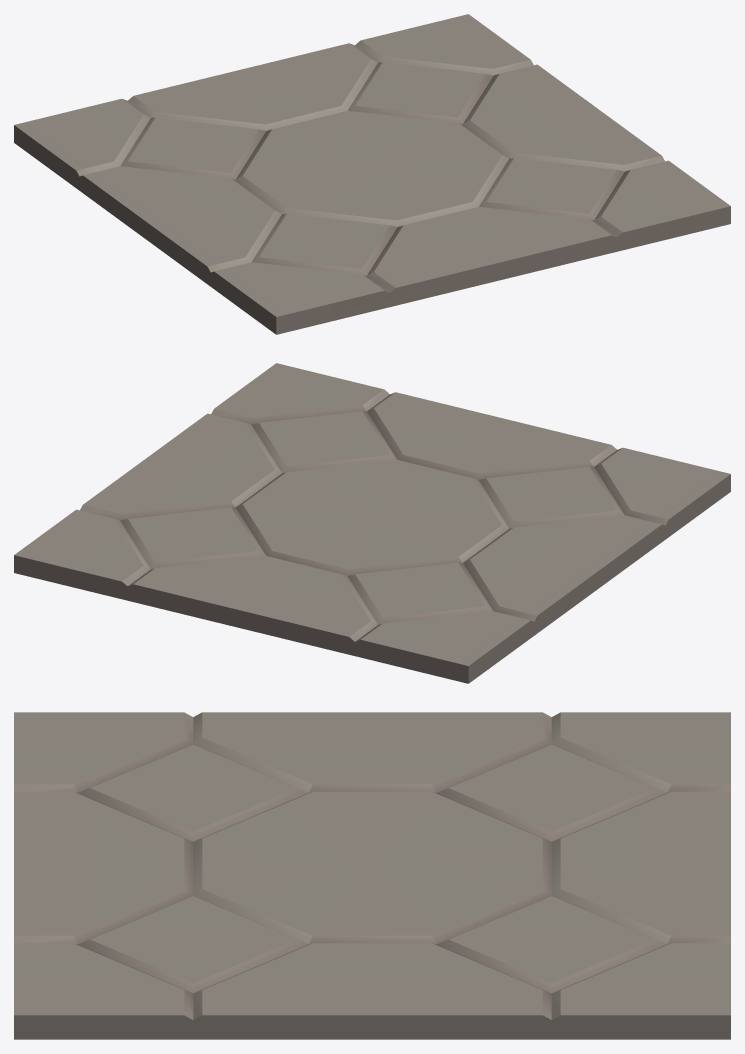
The model's file is floor.glb.
3 renders of one model, top to bottom at view 1: azimuth 30°, elevation 25°; view 2: azimuth 150°, elevation 25°; view 3: azimuth 270°, elevation 25°, orthographic. The views are drawn at different scales.
Visible parts, largest first — view 1: floor_tile_large; view 2: floor_tile_large; view 3: floor_tile_large.
Boxes of the visible parts, x1,y1,x2,y2 form: floor_tile_large: (14,14,730,334); floor_tile_large: (14,363,730,683); floor_tile_large: (14,712,730,1039).
Size of the model in its own units: 4 by 0.1499 by 4.
1 material, 1 textured.
